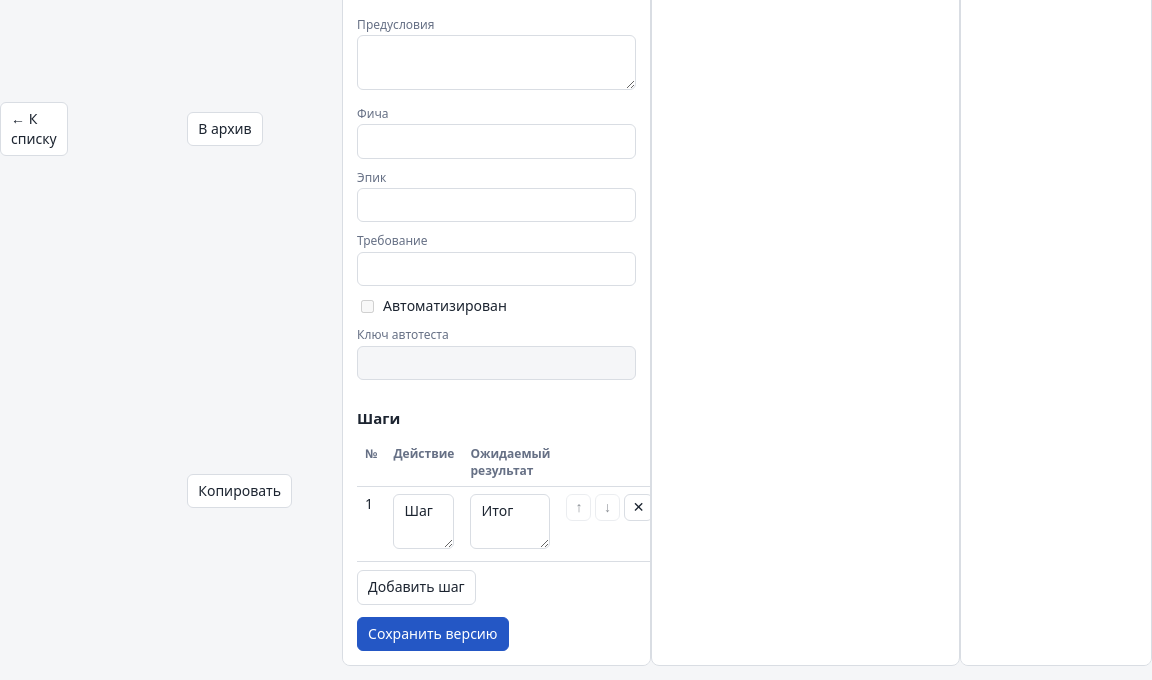
Test case: карточка кейса › сохранение без правок сообщает «версия не создана» и не шлёт описание
(page scrolled)
What coordinates should you click on to do the following:
click the button "Сохранить версию"
I would click on:
 (433, 634)
Its box is [357,617,509,651].
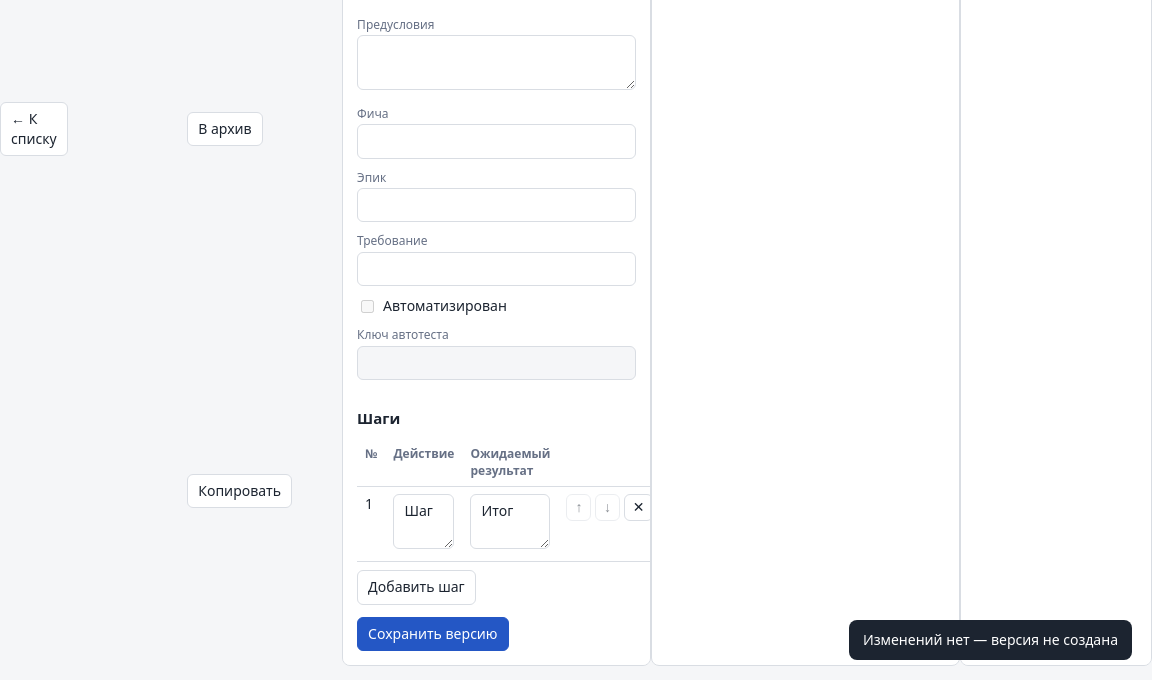
Check: the text "Изменений нет — версия не создана" is shown, box [849,620,1132,660]
